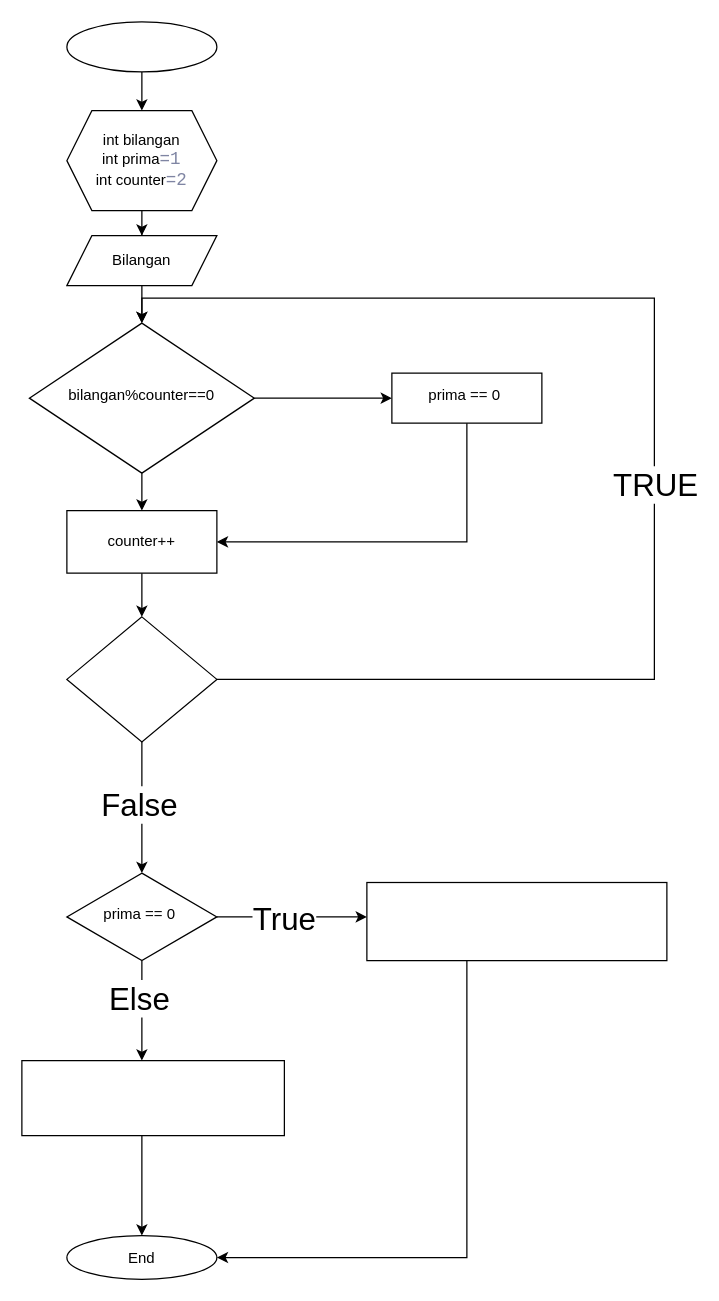
Some shapes in this 719 by 1301 pixel diagram are drawn without their labels. Each missing label, with the centre of its shape:
counter<bilangan: point (141, 679)
cout << bilangan << "Bukan Prima";: point (516, 921)
cout << bilangan << "Prima";: point (152, 1097)
Start: point (141, 46)
